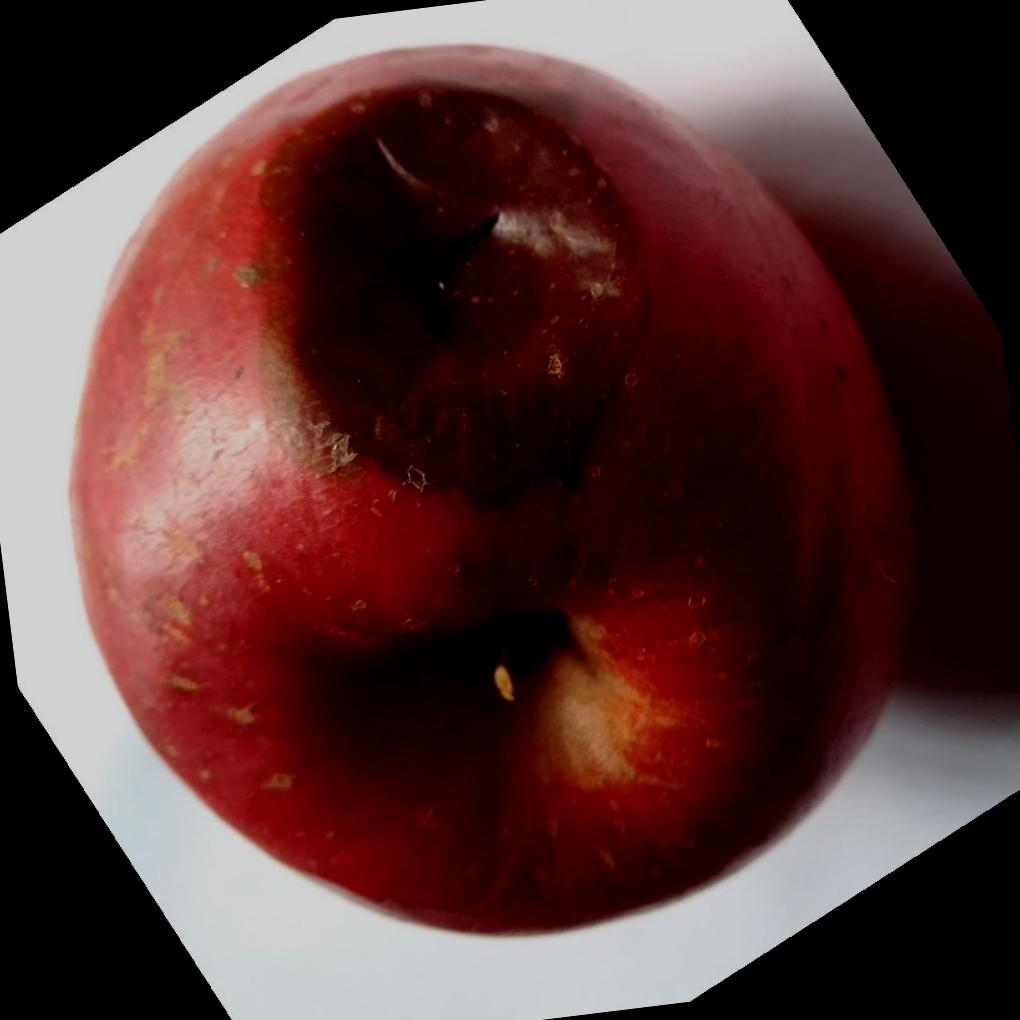FreshOrange: (66, 42, 926, 940)
